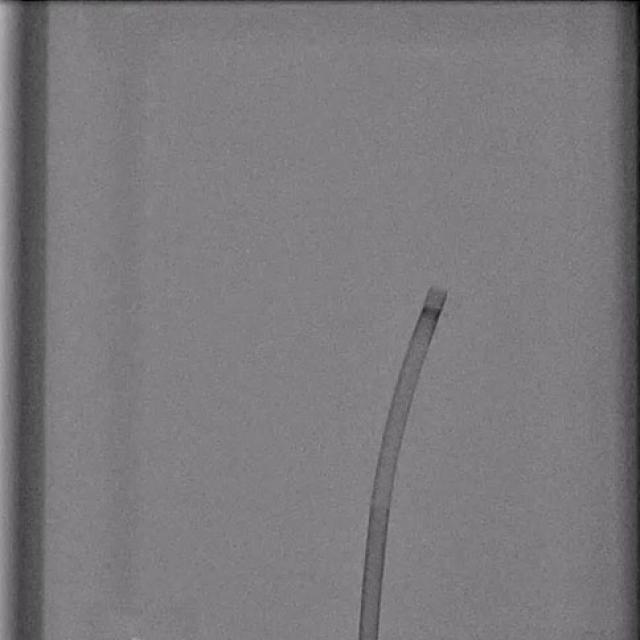bend: (372, 499, 391, 511)
entry: (359, 634, 378, 640)
marker: (419, 305, 442, 321)
tip: (428, 286, 448, 297)
